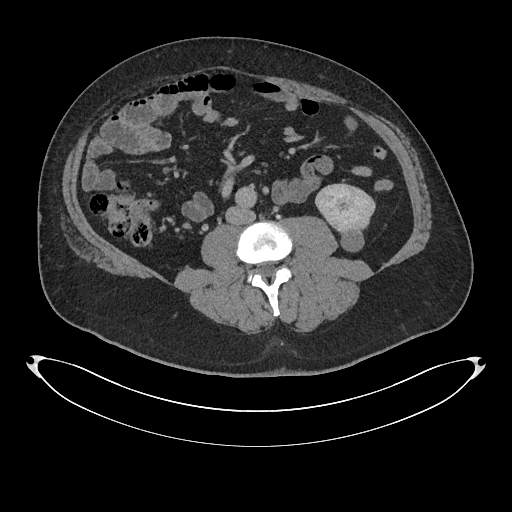Lesion: (337, 225, 367, 256)
